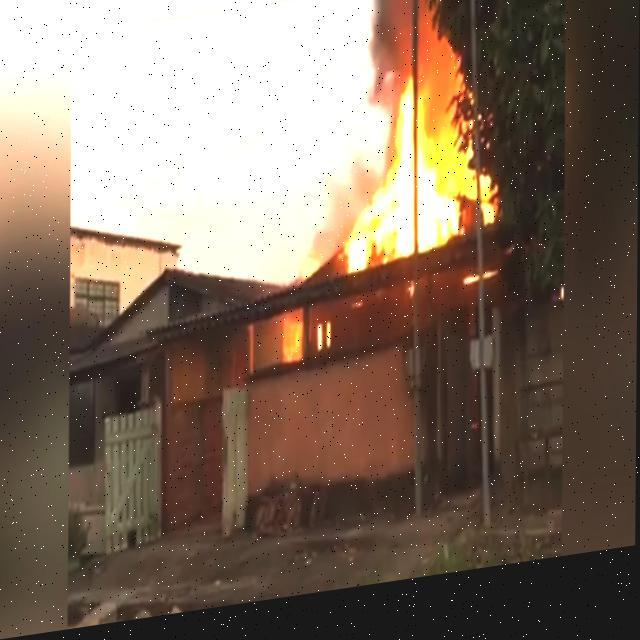Fire: (346, 69, 490, 289)
